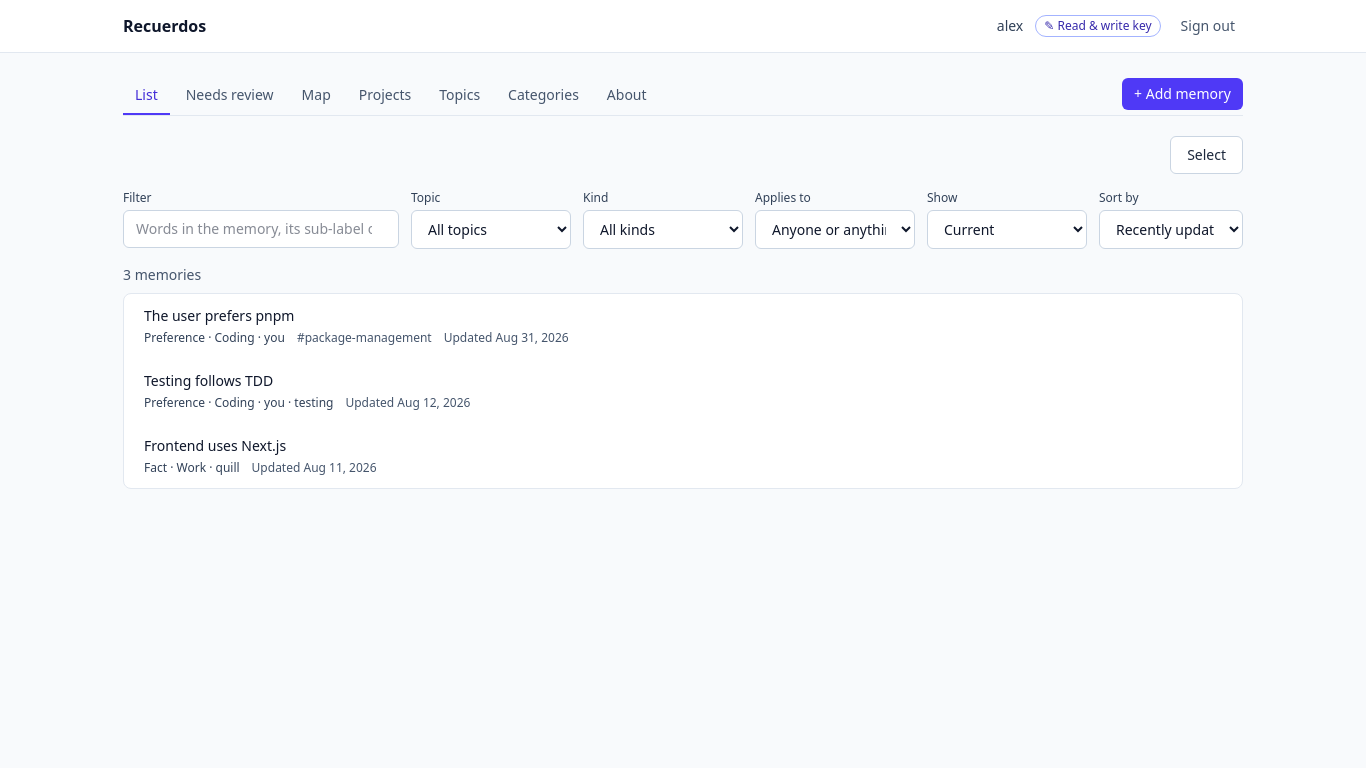
Test: editing a memory › changes what a memory is and re-tags it
expect the text "The user prefers pnpm" is shown: met, box [144,306,294,325]
Click the button "The user prefers pnpm".
click(219, 316)  # box [128,294,1242,358]
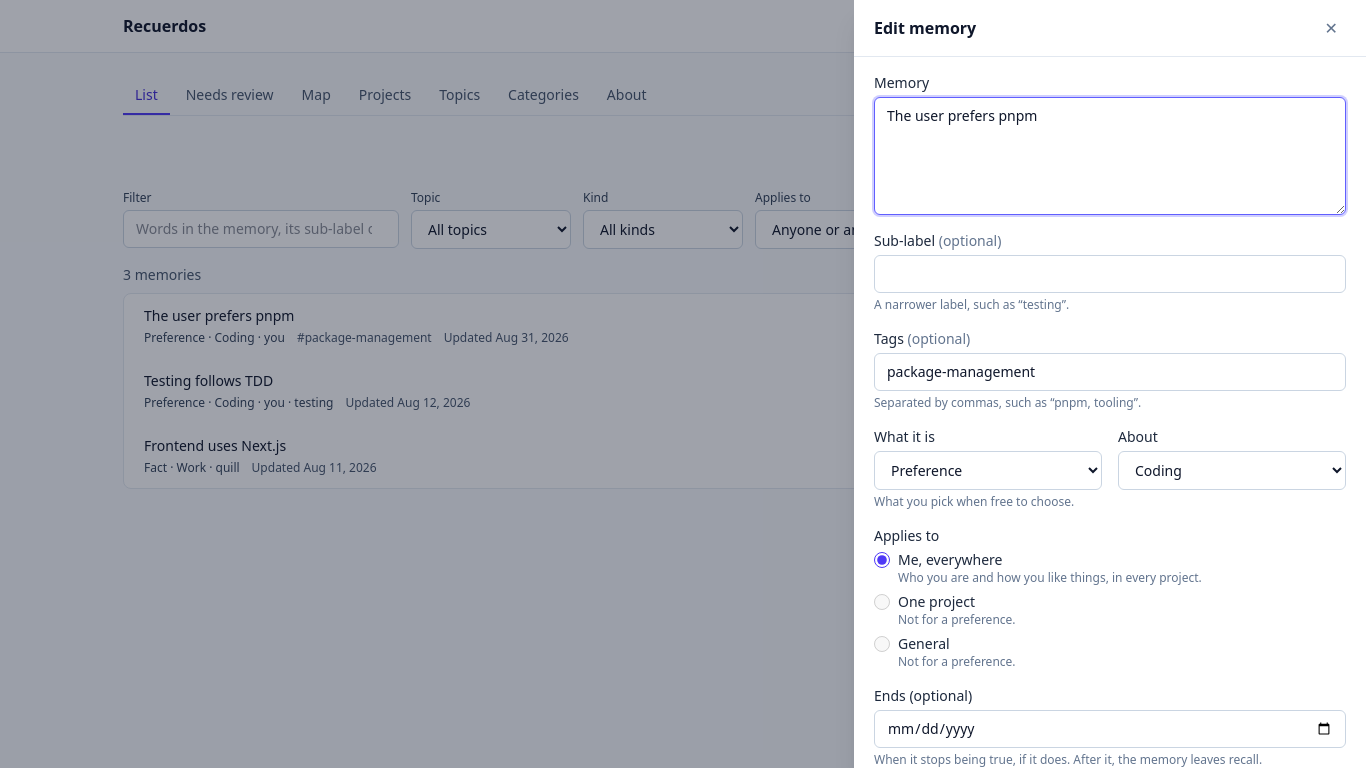
Select "Rule" in the dropdown labelled "What it is" at (988, 470), box [874,451,1102,490]
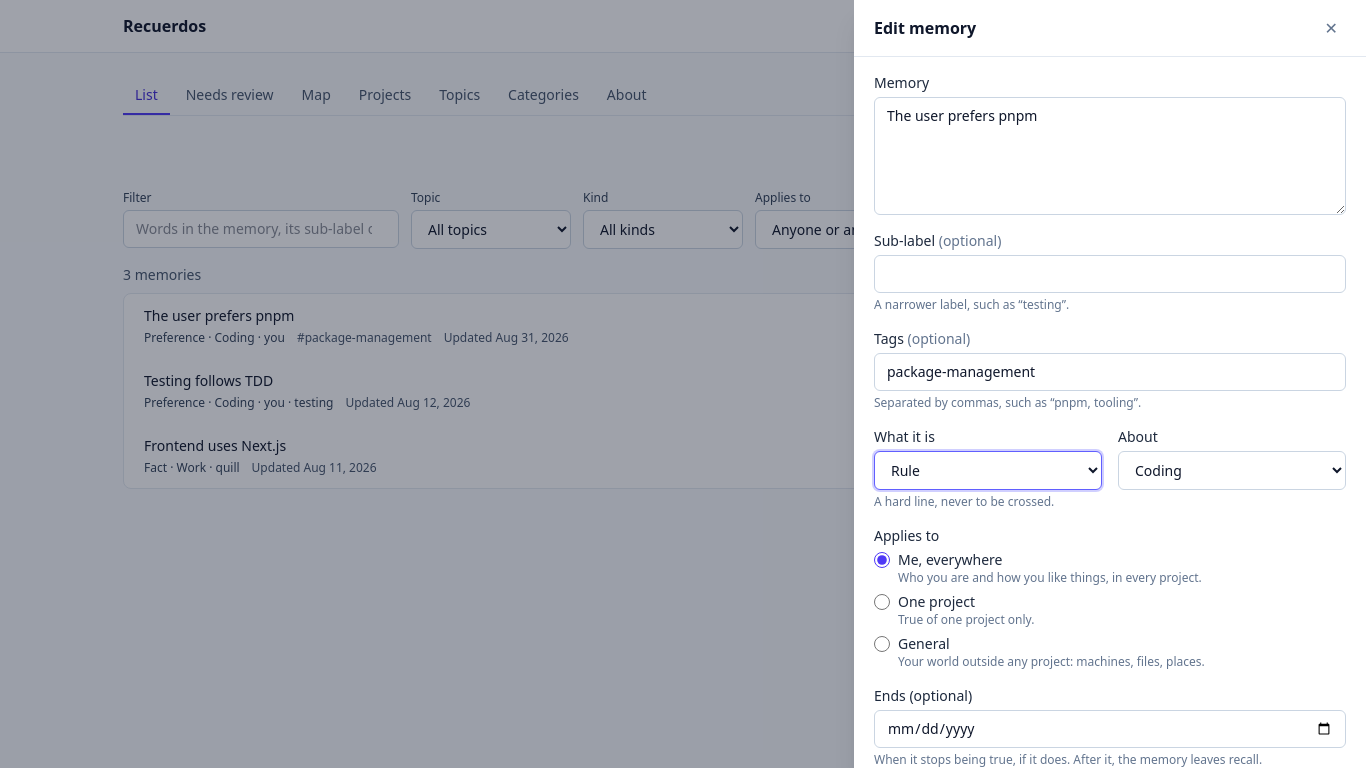
Select "Work" in the dropdown labelled "About" at (1232, 470), box [1118,451,1346,490]
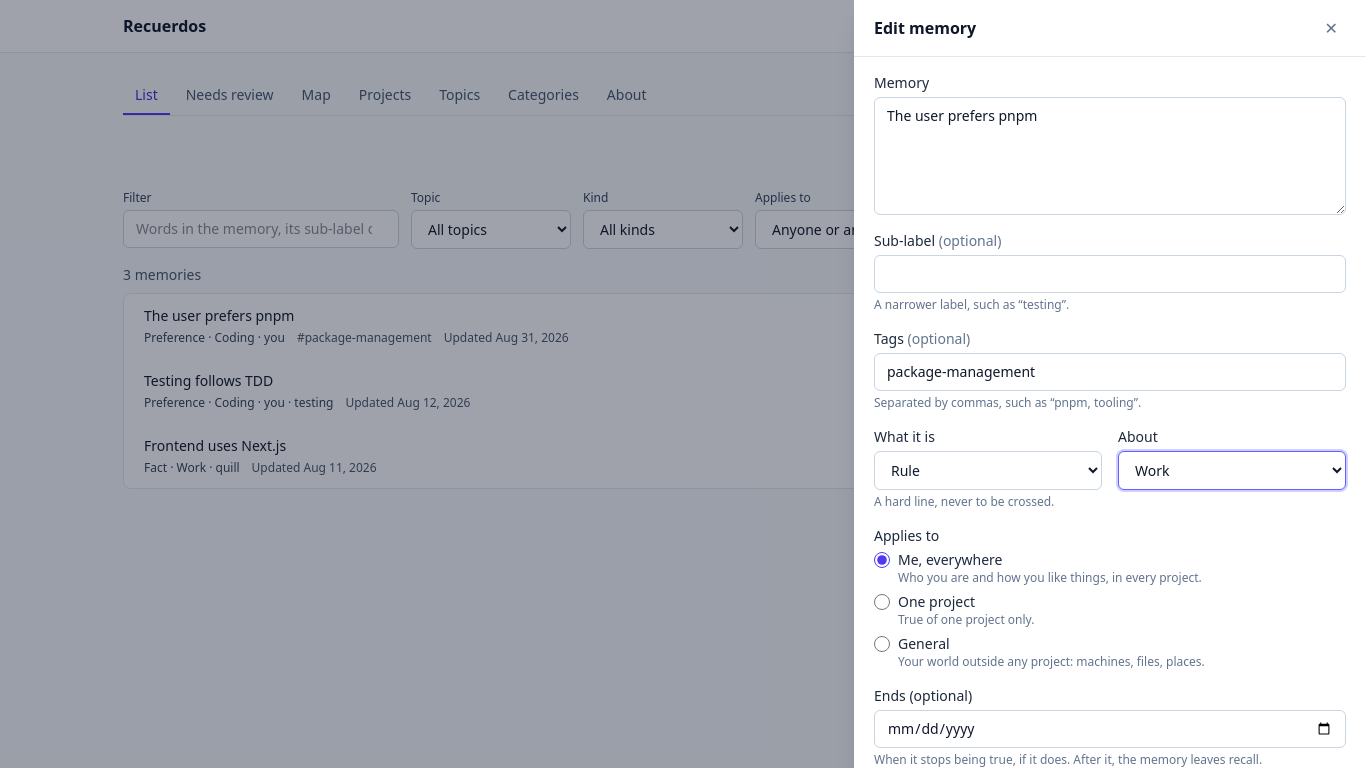
Replace the text in the field labelled "Tags (optional)" with "#Tooling, pnpm, tooling" at (1110, 372), box [874,353,1346,391]
(page scrolled)
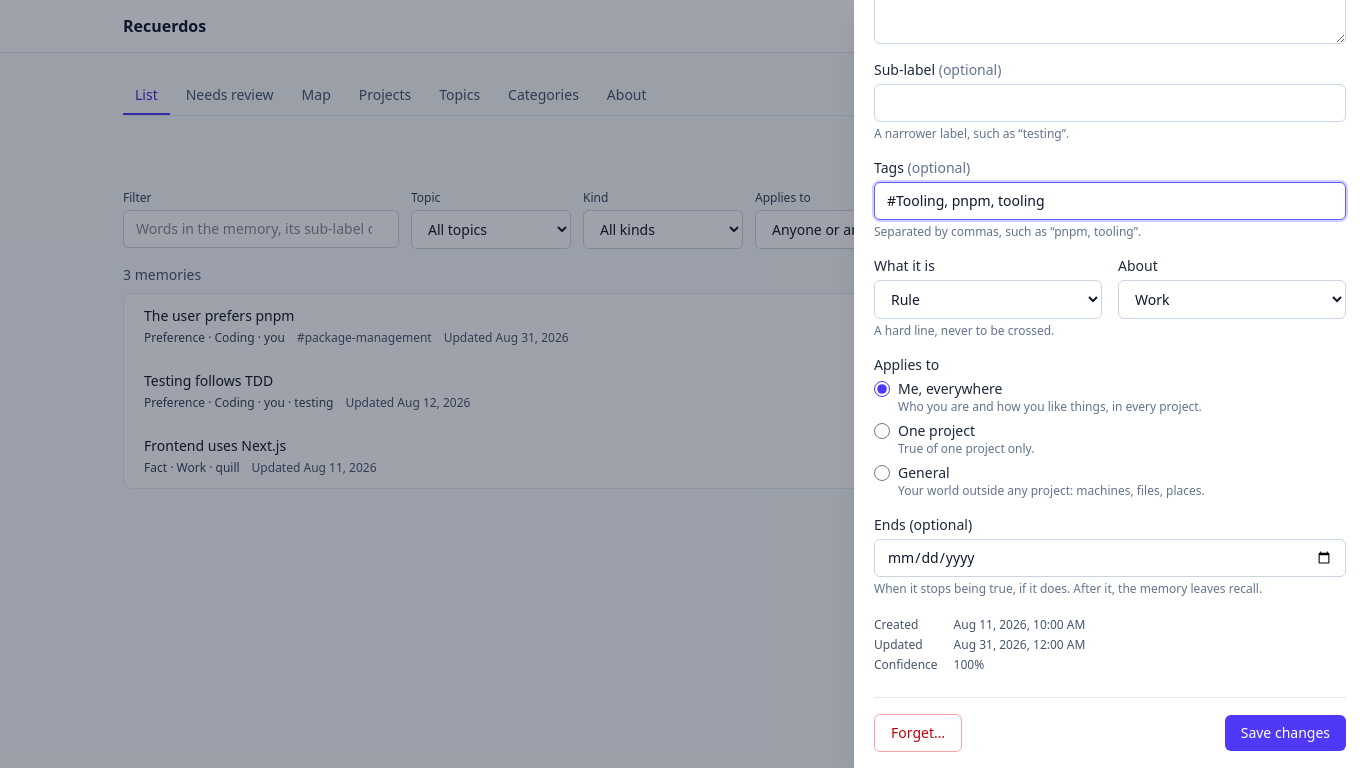
Click the button "Save changes".
click(1285, 733)  # box [1225,715,1346,751]
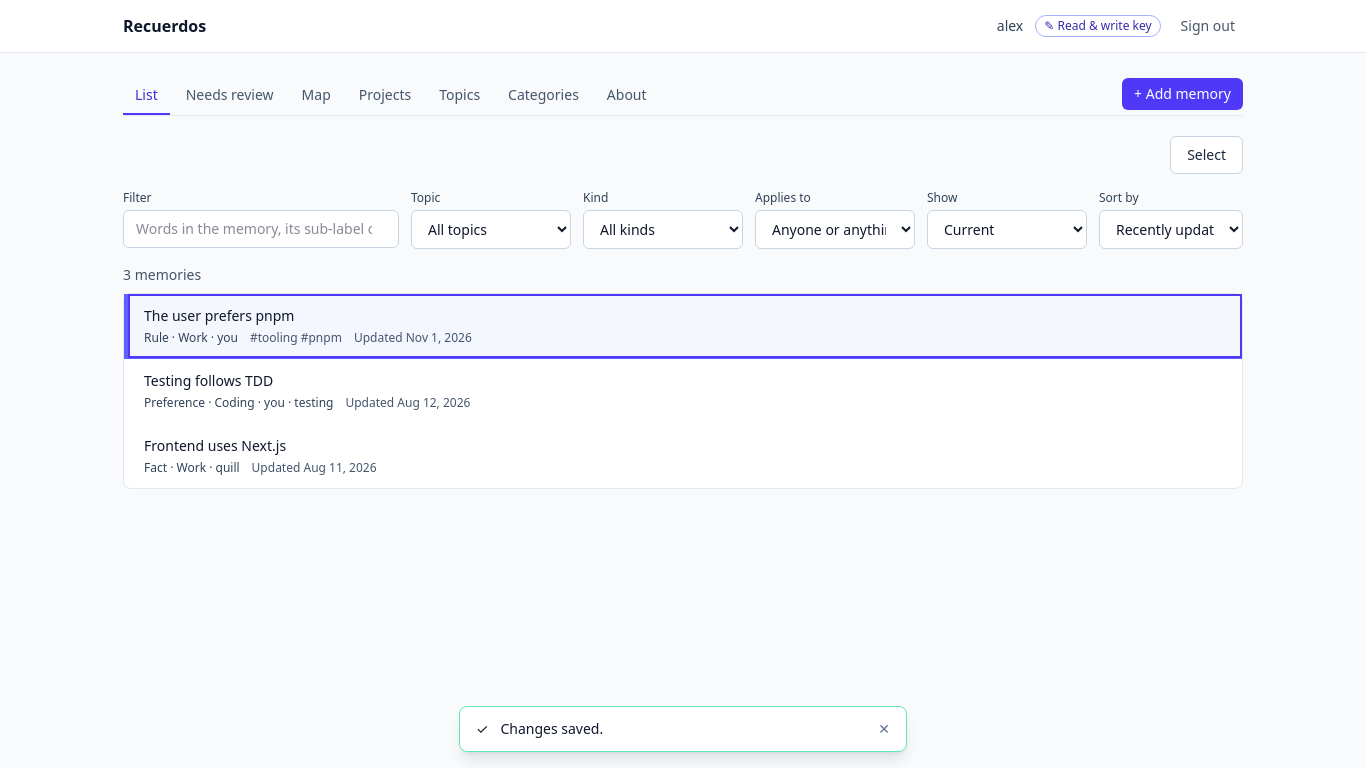
expect the text "Changes saved." is shown: met, box [500,719,603,738]
